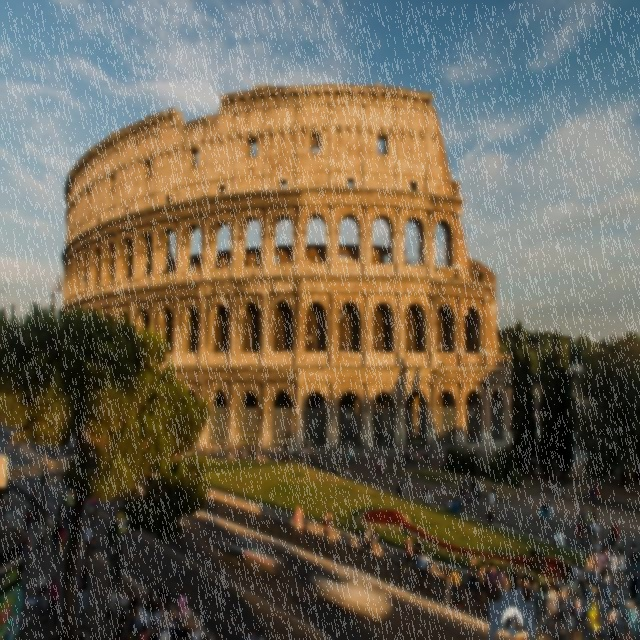pessoa: (130, 588, 210, 640), (588, 586, 638, 640), (466, 556, 505, 605), (36, 572, 60, 624), (105, 584, 128, 636), (565, 588, 588, 640), (544, 582, 562, 638), (402, 438, 429, 472), (74, 565, 88, 617), (572, 560, 588, 602), (415, 548, 430, 592), (586, 546, 602, 586), (554, 572, 568, 614), (449, 566, 462, 610), (322, 511, 336, 548), (590, 559, 602, 601), (608, 548, 619, 592), (600, 568, 611, 612), (292, 504, 306, 538), (112, 542, 122, 588), (573, 515, 585, 552), (37, 516, 49, 552), (87, 534, 98, 573), (583, 554, 596, 586), (599, 548, 612, 579), (440, 564, 450, 604), (532, 580, 542, 620), (77, 568, 86, 612), (617, 548, 626, 590), (630, 542, 640, 578), (50, 520, 60, 554), (128, 590, 140, 618), (58, 523, 68, 556), (84, 522, 92, 563), (403, 536, 412, 572), (370, 524, 380, 556), (541, 498, 552, 526), (23, 507, 33, 535), (403, 537, 411, 572), (610, 520, 620, 548), (413, 537, 423, 564), (3, 499, 12, 528), (609, 526, 617, 558), (22, 526, 29, 561), (363, 524, 371, 554), (522, 578, 532, 602), (585, 578, 596, 599), (554, 528, 566, 547), (18, 564, 26, 592), (590, 518, 600, 540), (607, 463, 622, 476), (66, 504, 72, 536), (462, 476, 470, 500), (586, 484, 595, 505), (488, 489, 495, 516), (450, 498, 460, 516), (516, 576, 524, 598), (602, 547, 610, 568), (604, 545, 612, 566), (590, 534, 602, 548), (592, 485, 600, 506), (586, 527, 592, 554), (473, 479, 480, 502), (592, 528, 600, 546), (31, 486, 37, 509), (4, 486, 10, 508), (379, 454, 385, 476), (502, 576, 510, 592), (284, 443, 296, 453), (458, 486, 464, 505), (579, 504, 587, 518), (469, 478, 474, 500), (590, 506, 596, 524), (558, 480, 564, 498), (396, 482, 402, 500), (348, 446, 354, 464), (583, 458, 588, 479), (400, 483, 408, 496), (6, 482, 12, 499), (57, 504, 63, 521), (578, 566, 584, 582), (69, 438, 74, 457), (425, 491, 432, 504), (307, 444, 312, 462), (0, 486, 5, 503), (488, 508, 493, 524), (448, 497, 453, 513), (423, 486, 428, 502), (308, 453, 314, 466), (51, 520, 58, 531), (376, 456, 380, 475), (73, 440, 78, 455), (532, 454, 538, 466), (251, 446, 256, 460), (316, 447, 320, 464), (478, 480, 482, 496), (302, 457, 310, 465), (552, 576, 558, 586), (235, 450, 241, 460), (344, 469, 350, 479), (242, 448, 247, 460), (458, 496, 462, 510), (336, 464, 341, 475), (229, 452, 235, 461), (302, 446, 306, 459), (332, 464, 337, 474), (286, 452, 291, 462), (281, 452, 286, 462), (186, 450, 193, 457), (290, 452, 296, 460), (263, 454, 269, 462), (257, 452, 261, 461), (174, 453, 180, 459), (256, 446, 260, 454), (465, 493, 468, 501)
